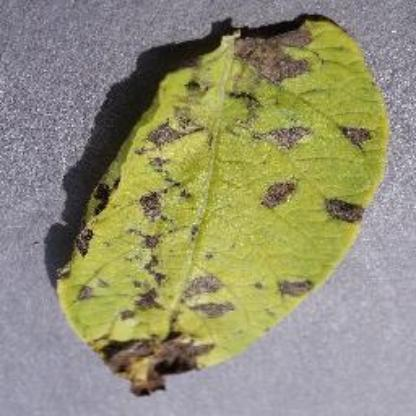Early-Blight: (48, 10, 392, 400)
